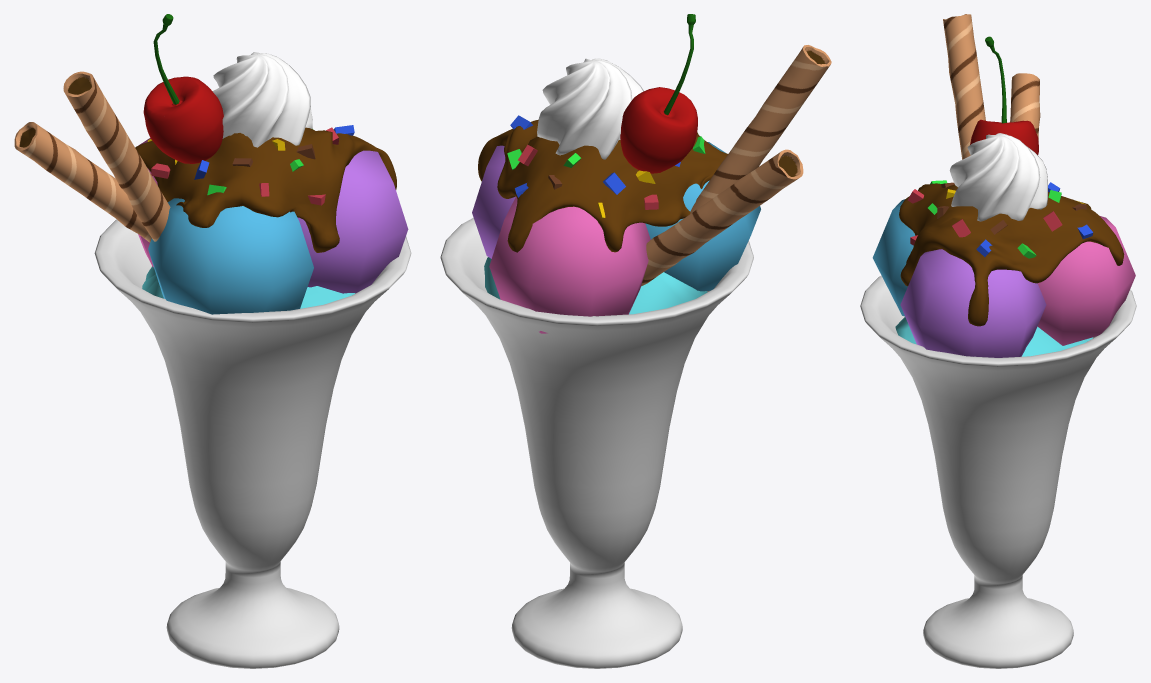
File: Sundae.fbx
The picture shows the model from 3 angles, left to right: view 1: azimuth 30°, elevation 25°; view 2: azimuth 150°, elevation 25°; view 3: azimuth 270°, elevation 25°; orthographic projection. The views are drawn at different scales.
Visible parts, largest first — view 1: Circle, Cube.002, Sauce, Cube.001, Star.003, Cherry.001, Piroulline.001, Piroulline2.001, Box003.018, Circle.002; view 2: Circle, Sauce, Cube, Star.003, Piroulline2.001, Cherry.001, Piroulline.001, Cube.002, Cube.001, Circle.002, Box003.018; view 3: Circle, Sauce, Cube.001, Cube, Star.003, Piroulline.001, Cube.002, Box003.018, Cherry.001, Piroulline2.001, Circle.002.
Boxes of the visible parts, box(x1,y1,x2,y2) form: Circle: box(94, 219, 411, 668); Cube.002: box(148, 198, 313, 314); Sauce: box(135, 127, 396, 252); Cube.001: box(297, 150, 408, 293); Star.003: box(212, 52, 312, 147); Cherry.001: box(143, 14, 223, 163); Piroulline.001: box(63, 71, 170, 241); Piroulline2.001: box(14, 122, 151, 242); Box003.018: box(147, 125, 354, 205); Circle.002: box(142, 266, 355, 308); Circle: box(440, 218, 753, 668); Sauce: box(478, 119, 727, 252); Cube: box(489, 197, 650, 333); Star.003: box(537, 58, 643, 159); Piroulline2.001: box(641, 149, 803, 286); Cherry.001: box(620, 14, 697, 173); Piroulline.001: box(690, 45, 831, 213); Cube.002: box(645, 142, 760, 291); Cube.001: box(472, 145, 515, 258); Circle.002: box(484, 257, 707, 314); Box003.018: box(507, 115, 705, 218); Circle: box(860, 275, 1136, 668); Sauce: box(899, 183, 1124, 326); Cube.001: box(900, 249, 1046, 357); Cube: box(1037, 215, 1135, 345); Star.003: box(949, 133, 1047, 221); Piroulline.001: box(943, 14, 985, 159); Cube.002: box(872, 199, 915, 316); Box003.018: box(907, 180, 1093, 258); Cherry.001: box(970, 36, 1038, 154); Piroulline2.001: box(1010, 73, 1040, 140); Circle.002: box(895, 317, 1092, 356).
Size of the model in its own units: 469 by 808 by 359.
